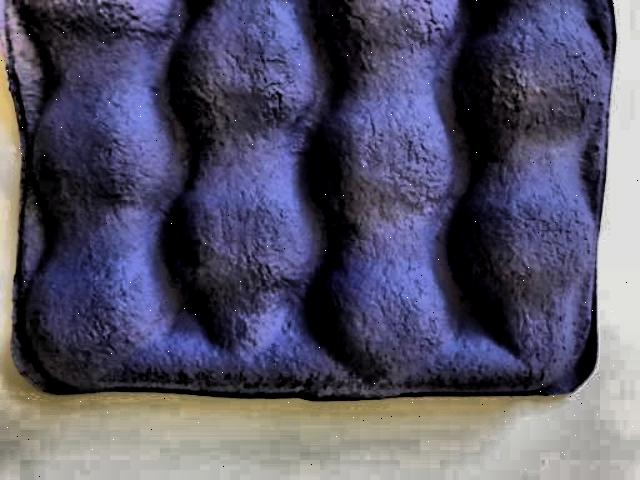Paper: (0, 0, 618, 401)
